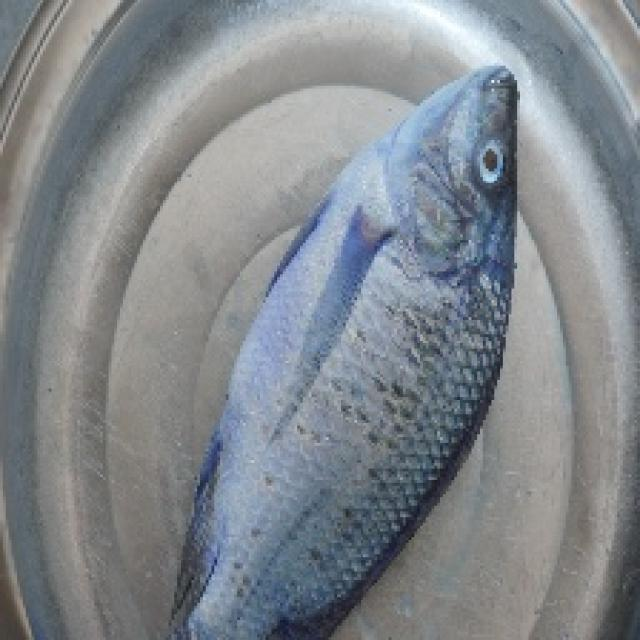Fresh: (173, 42, 541, 640)
